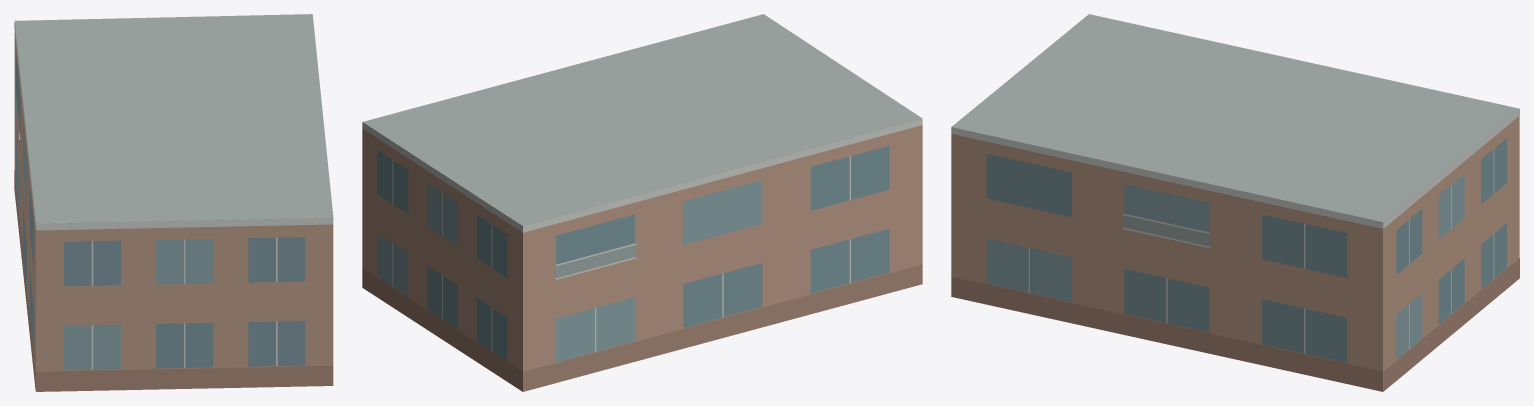
The model's file is survey-upis-32612702.glb.
3 views of the same model, side by side, from view 1: azimuth 30°, elevation 25°; view 2: azimuth 150°, elevation 25°; view 3: azimuth 270°, elevation 25° (orthographic). The views are drawn at different scales.
Visible parts, largest first — view 1: survey-upis-32612702.tmp; view 2: survey-upis-32612702.tmp; view 3: survey-upis-32612702.tmp.
Boxes of the visible parts, box(x1,y1,x2,y2) form: survey-upis-32612702.tmp: box(14, 14, 333, 391); survey-upis-32612702.tmp: box(362, 14, 922, 391); survey-upis-32612702.tmp: box(951, 14, 1519, 391).
Size of the model in its own units: 16.06 by 6.1 by 18.53.
